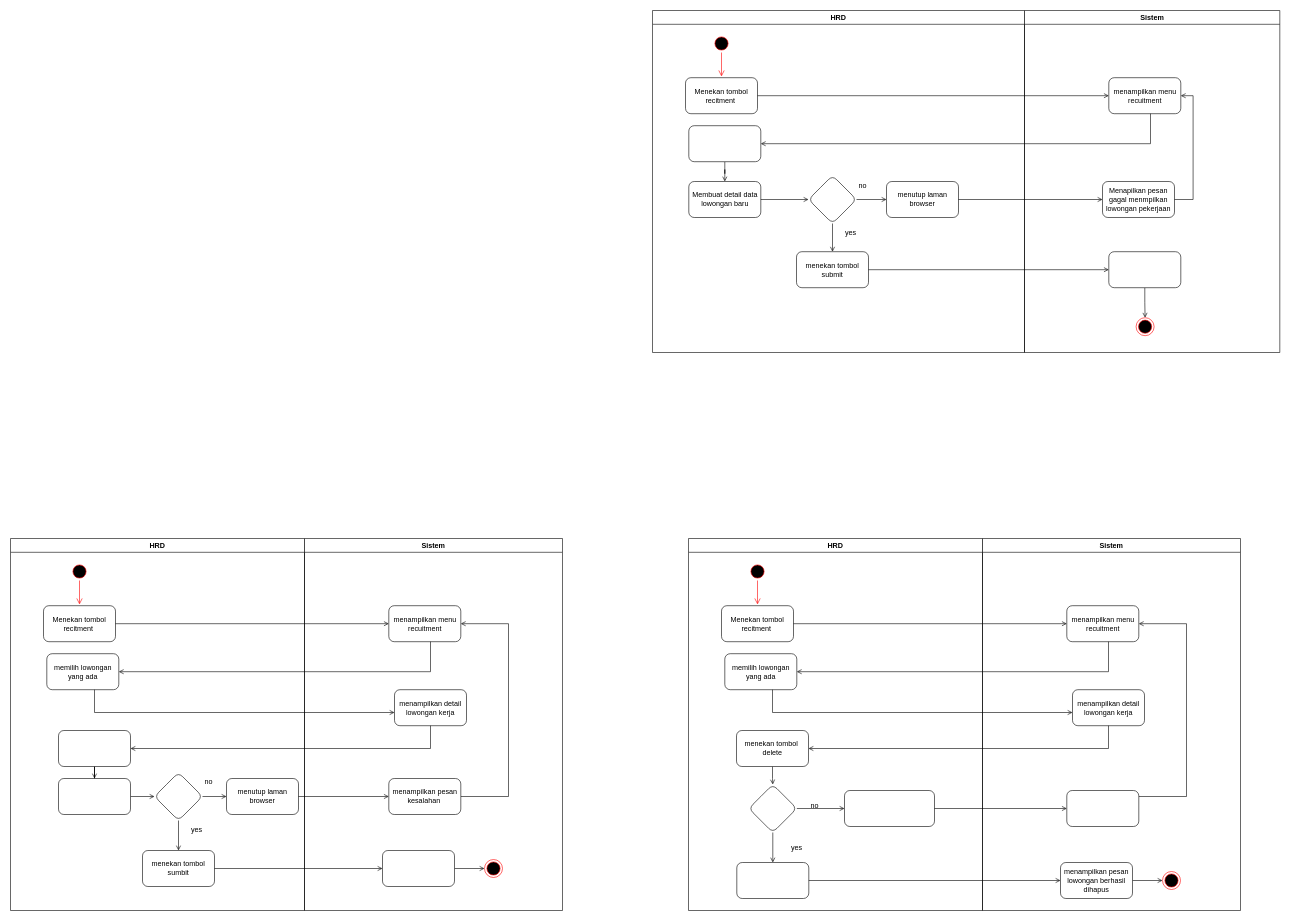
Some shapes in this 1291 by 921 pixel diagram are drawn without their labels. Each missing label, with the box of its shape:
melakukan pembaruan pada detail lowongan: (58, 778, 130, 814)
memilih opsi pada menu reutment: (688, 125, 761, 162)
menampilkan lowongan pekerjaan: (1108, 251, 1181, 288)
menampilkan pesan berhasil melakukan pembaruan data: (382, 850, 454, 886)
menampilkan pesan lowongan tidak berhasil dihapus: (1066, 790, 1139, 826)
menekan tombol edit: (58, 730, 130, 766)
menekan tombol iya: (736, 862, 809, 898)
menekan tombol tidak: (844, 790, 934, 826)
